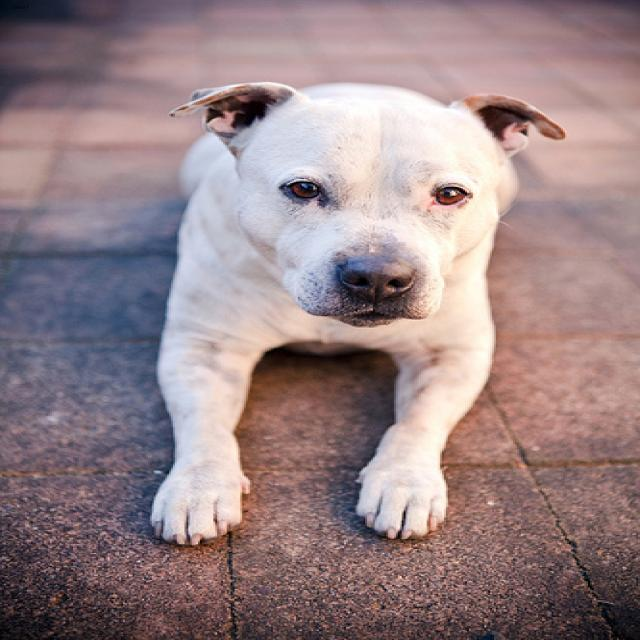dog-staffordshire_bull_terrier: (138, 74, 573, 549)
